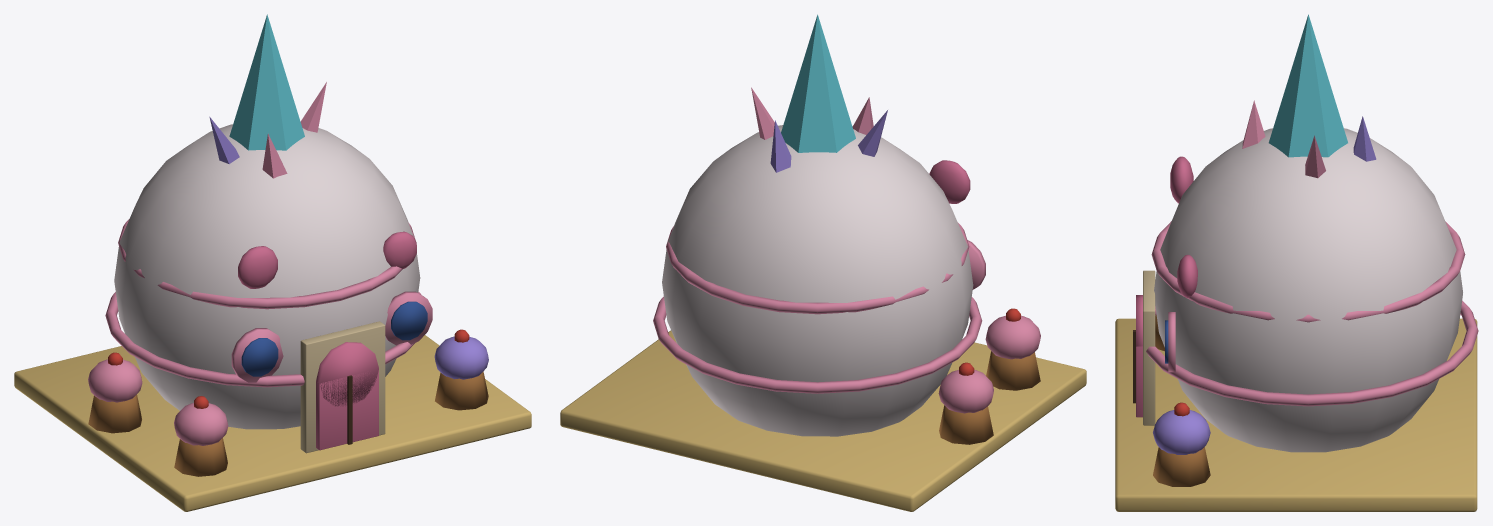
File: k_shop.glb
3 views of the same model, side by side, from view 1: azimuth 30°, elevation 25°; view 2: azimuth 150°, elevation 25°; view 3: azimuth 270°, elevation 25° (orthographic). The views are drawn at different scales.
Parts seen in each view (by area): view 1: SK_k_shop; view 2: SK_k_shop; view 3: SK_k_shop.
Part boxes in pixels (x1,y1,x2,y2): SK_k_shop: (14,14,531,511); SK_k_shop: (560,14,1086,511); SK_k_shop: (1115,14,1478,511).
Bounding box in the file's own units: 3.5 × 3.97 × 3.01.
